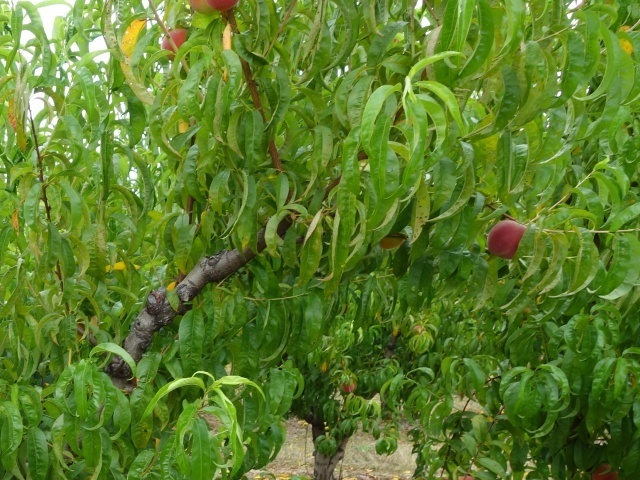peach: (485, 216, 534, 263), (154, 23, 194, 60), (377, 228, 408, 253), (201, 1, 243, 15)
